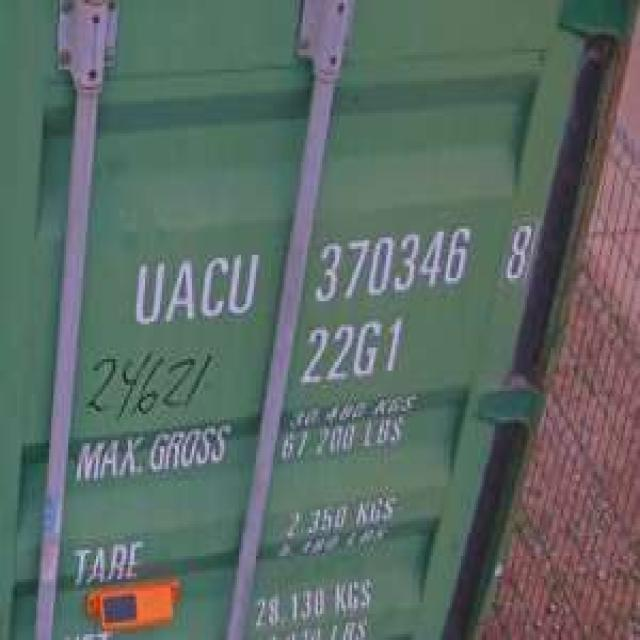dv: (497, 211, 538, 287)
owner: (128, 246, 260, 330)
serial: (307, 220, 474, 304)
size: (292, 313, 406, 388)
